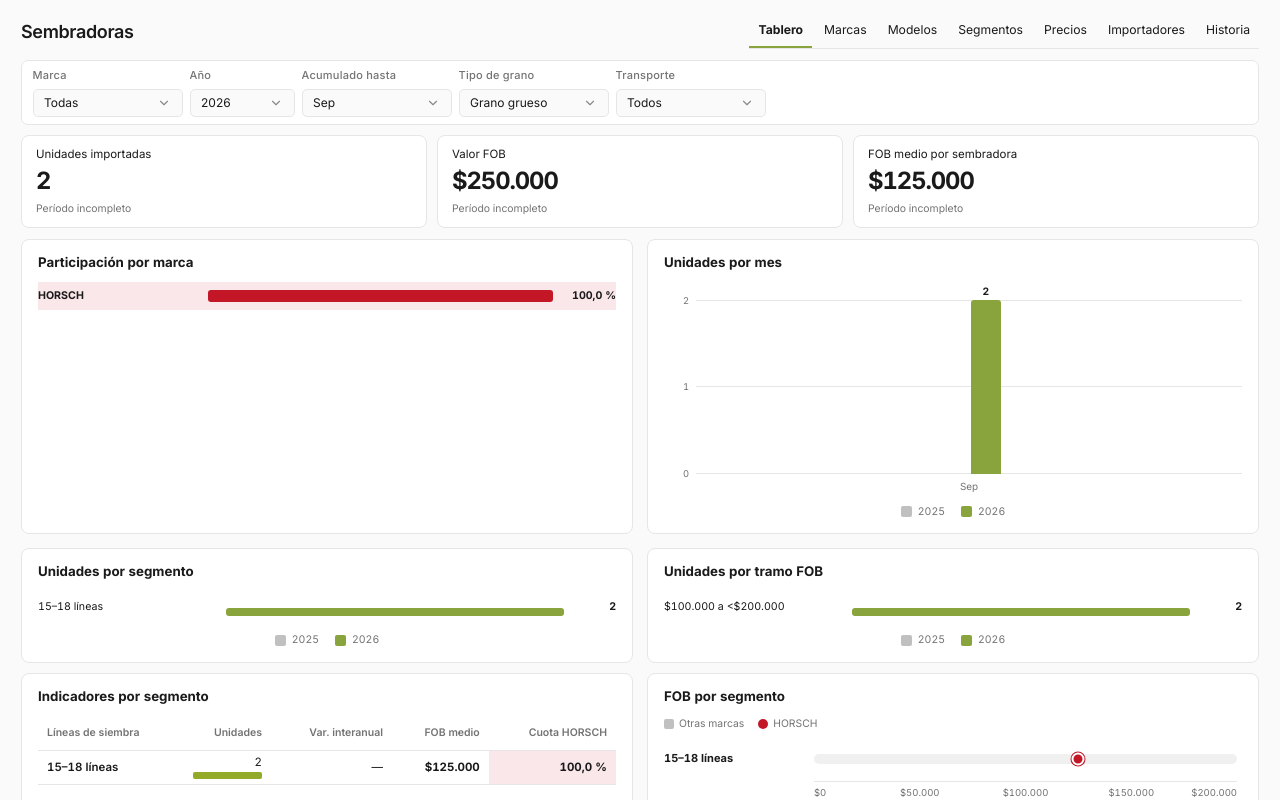
it: conserva el tipo de grano al abrir un segmento de Sembradoras
expect the column heading "Cuota HORSCH" is shown: met, box left=489, top=716, right=616, bottom=750
Click the link "Segmentos".
click(991, 30)  # box left=958, top=22, right=1023, bottom=37
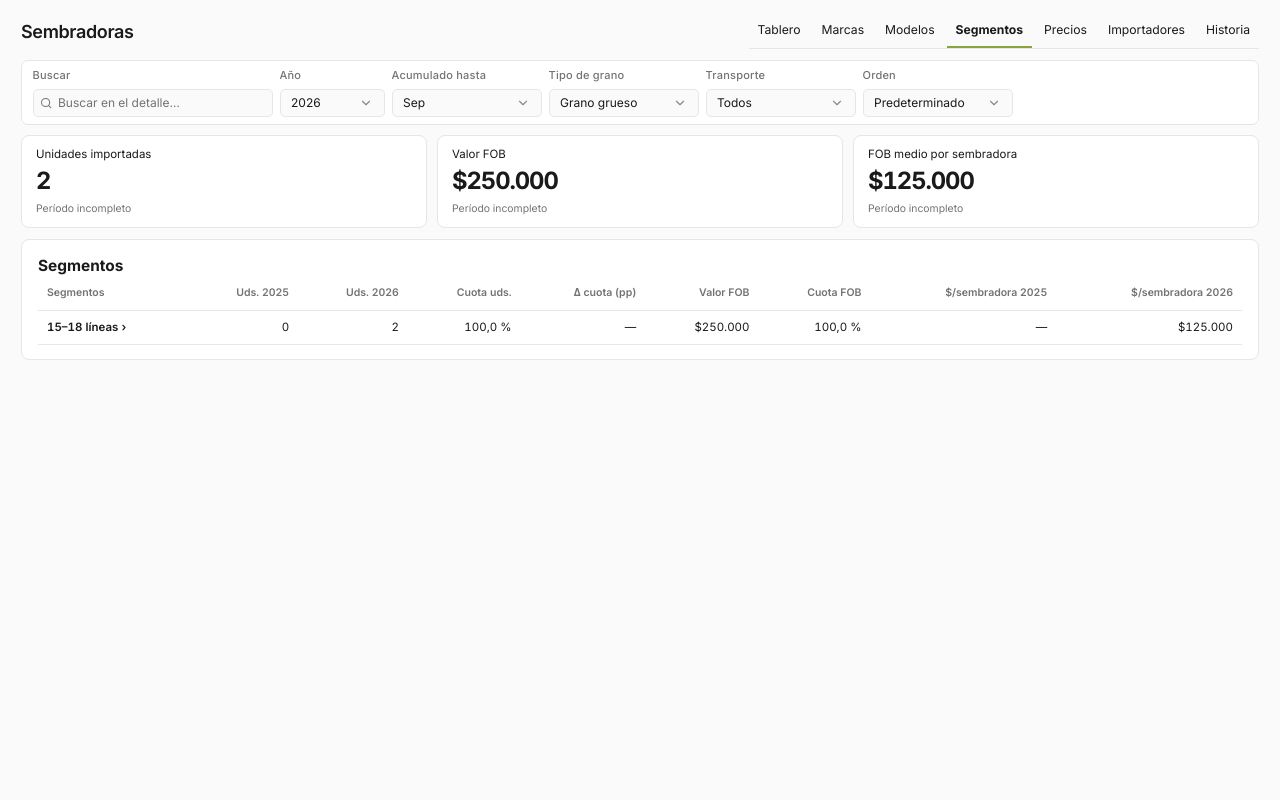
Click the link "15–18 líneas ›".
click(83, 327)  # box left=47, top=320, right=126, bottom=334
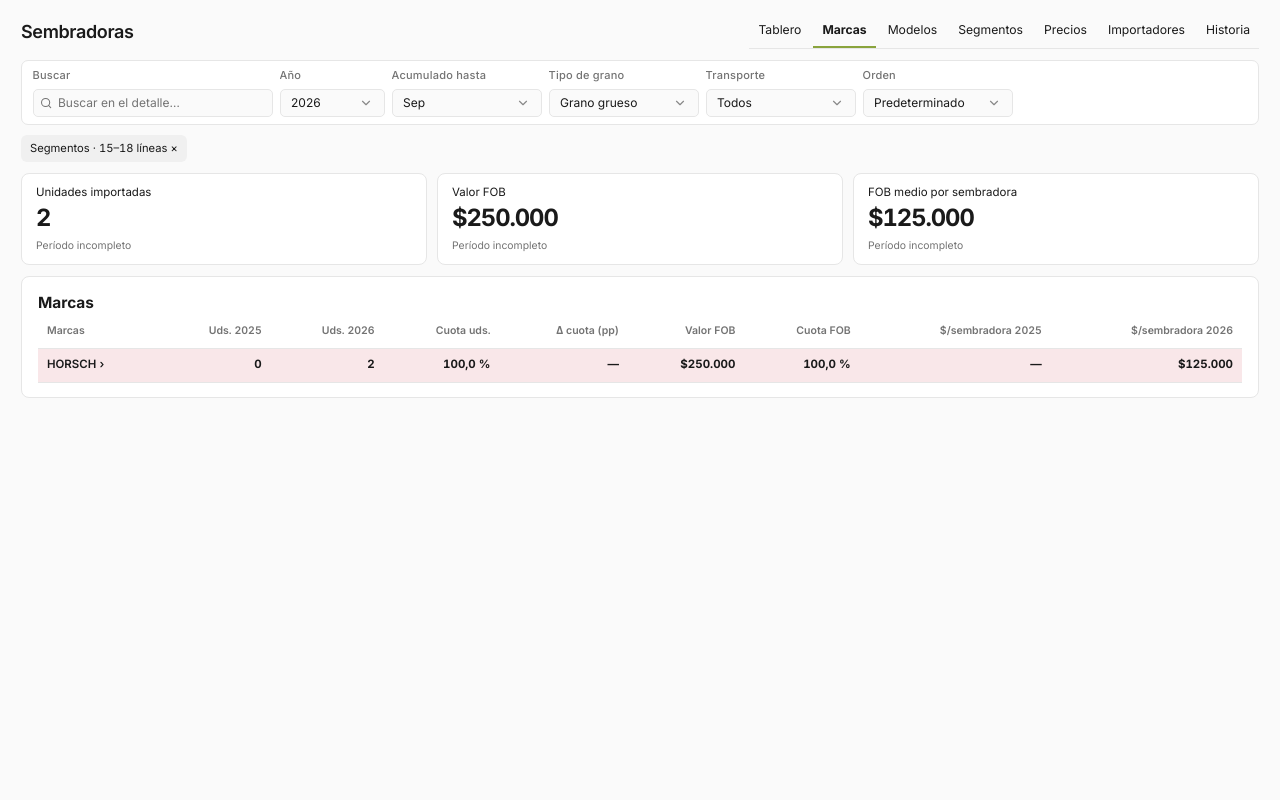
expect the text "Otra" is not shown: met
expect the link "HORSCH ›" is shown: met, box left=47, top=357, right=104, bottom=371
